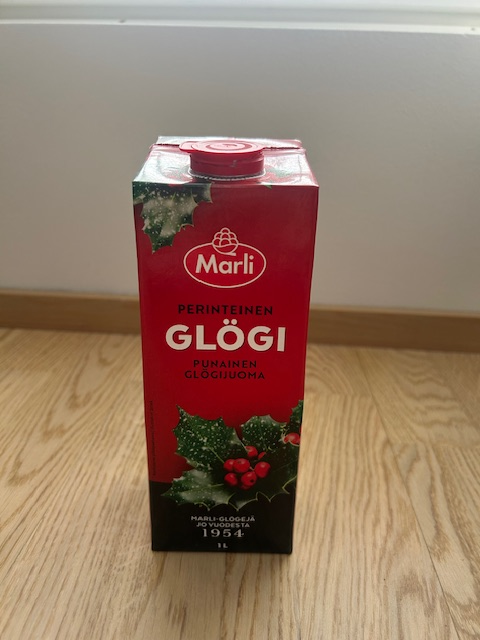Dryckeskartong: (131, 134, 320, 555)
